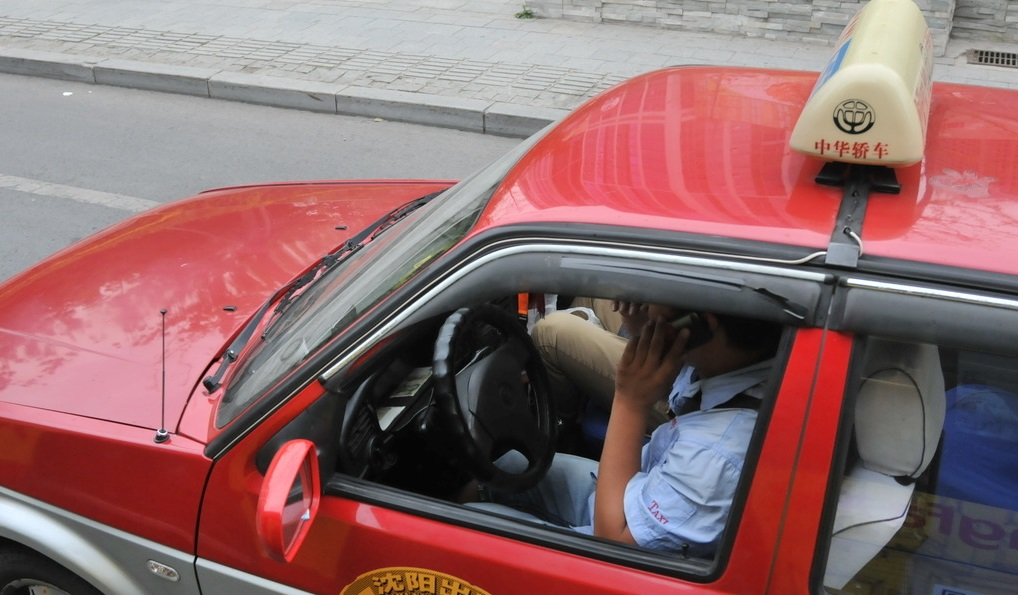taxi: (1, 1, 1018, 595)
